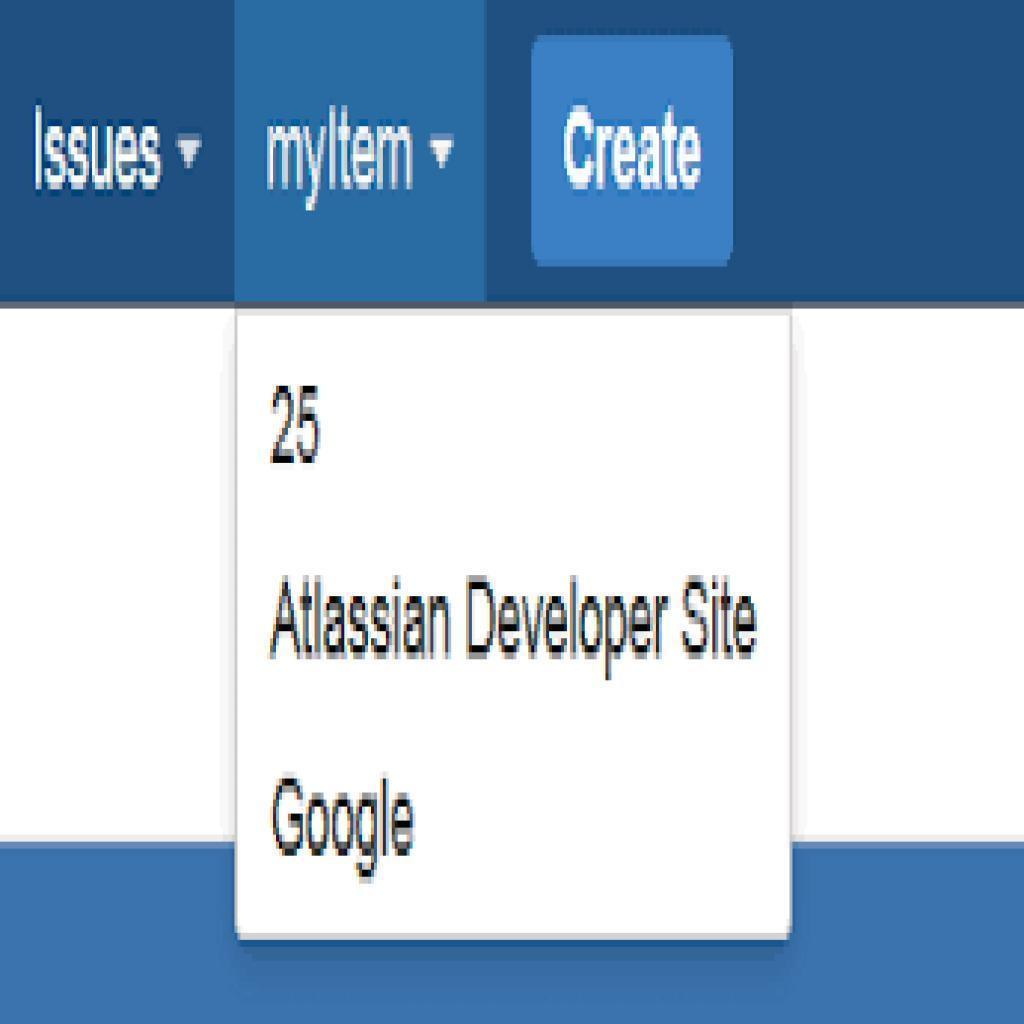button: (531, 34, 735, 267)
dropdown: (236, 2, 486, 310), (0, 3, 237, 307)
label: (266, 576, 761, 684), (266, 771, 417, 884), (270, 377, 323, 470)
